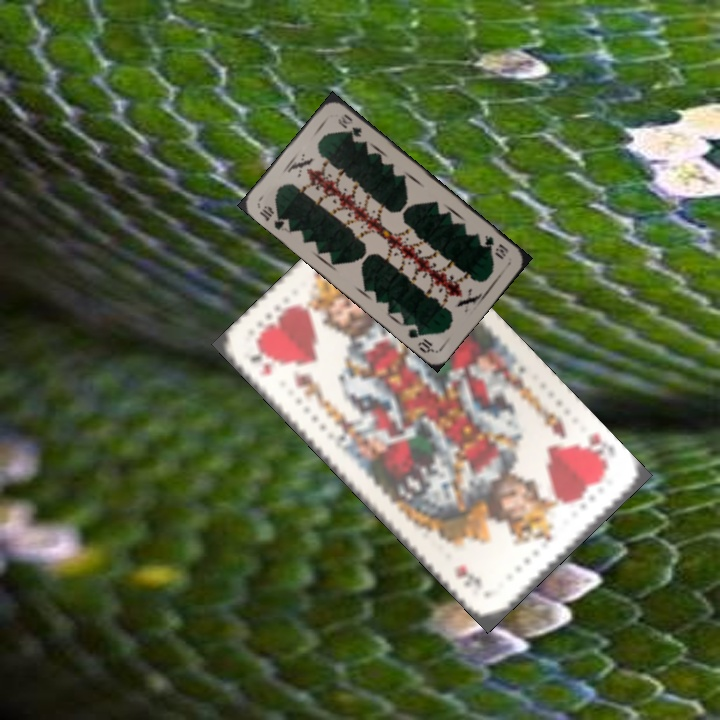G10: (255, 201, 292, 234), (480, 231, 511, 262)
HK: (238, 341, 274, 379), (574, 428, 607, 455)
